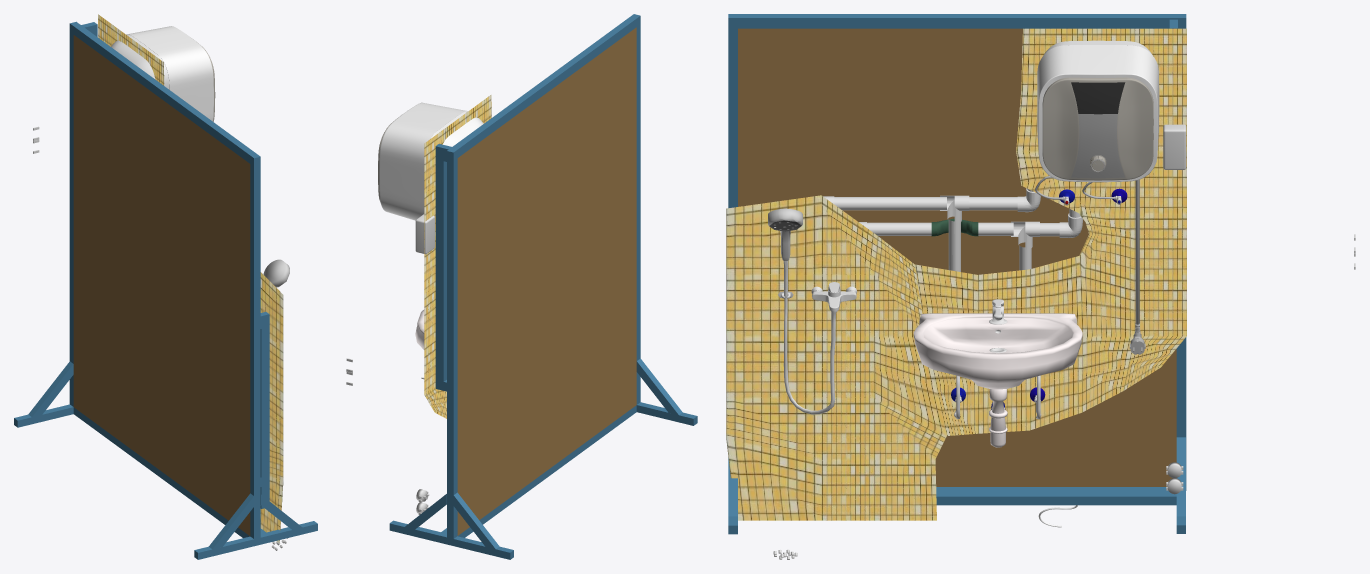
File: restroom.glb
3 views of the same model, side by side, from view 1: azimuth 30°, elevation 25°; view 2: azimuth 150°, elevation 25°; view 3: azimuth 270°, elevation 25° (orthographic). The views are drawn at different scales.
Visible parts, largest first — view 1: Cube.010, Cube, Plane, PANEL, Cube.008, Cube.001, Cube.004, kecil; view 2: Cube.010, Cube, PANEL, Plane, Cube.009, Cube.004, Cube.001; view 3: Plane, Cube.010, PANEL, Cube, BAWAH, kecil, Cylinder.004, Cube.005, Cylinder.011, Tap.
Part boxes in pixels (box(x1,y1,x2,y2)): Cube.010: box(73, 35, 250, 535); Cube: box(14, 21, 317, 559); Plane: box(98, 14, 283, 542); PANEL: box(111, 26, 215, 121); Cube.008: box(260, 312, 269, 508); Cube.001: box(209, 493, 302, 549); Cube.004: box(28, 361, 73, 417); kecil: box(263, 259, 289, 287); Cube.010: box(457, 27, 636, 535); Cube: box(389, 14, 697, 559); PANEL: box(378, 102, 483, 220); Plane: box(424, 95, 491, 418); Cube.009: box(435, 144, 451, 391); Cube.004: box(405, 492, 499, 549); Cube.001: box(636, 358, 682, 415); Plane: box(726, 28, 1186, 520); Cube.010: box(738, 28, 1176, 486); PANEL: box(1035, 40, 1159, 199); Cube: box(728, 14, 1186, 534); BAWAH: box(913, 299, 1082, 447); kecil: box(768, 208, 836, 414); Cylinder.004: box(834, 197, 946, 210); Cube.005: box(1163, 125, 1186, 169); Cylinder.011: box(867, 222, 931, 235); Tap: box(811, 282, 857, 312).
Bounding box in the file's own units: 9.69 × 24.54 × 26.79.
25 materials, 2 textured.
